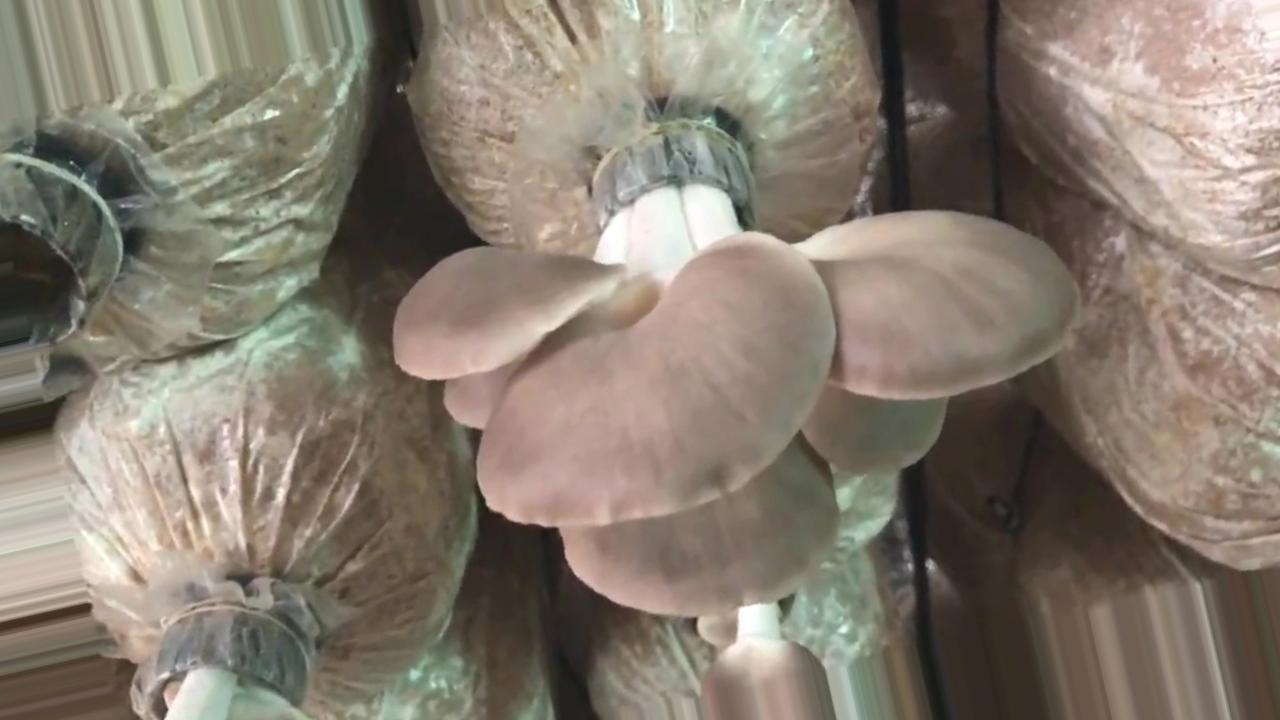nam: (394, 124, 1077, 613), (699, 602, 834, 720)
